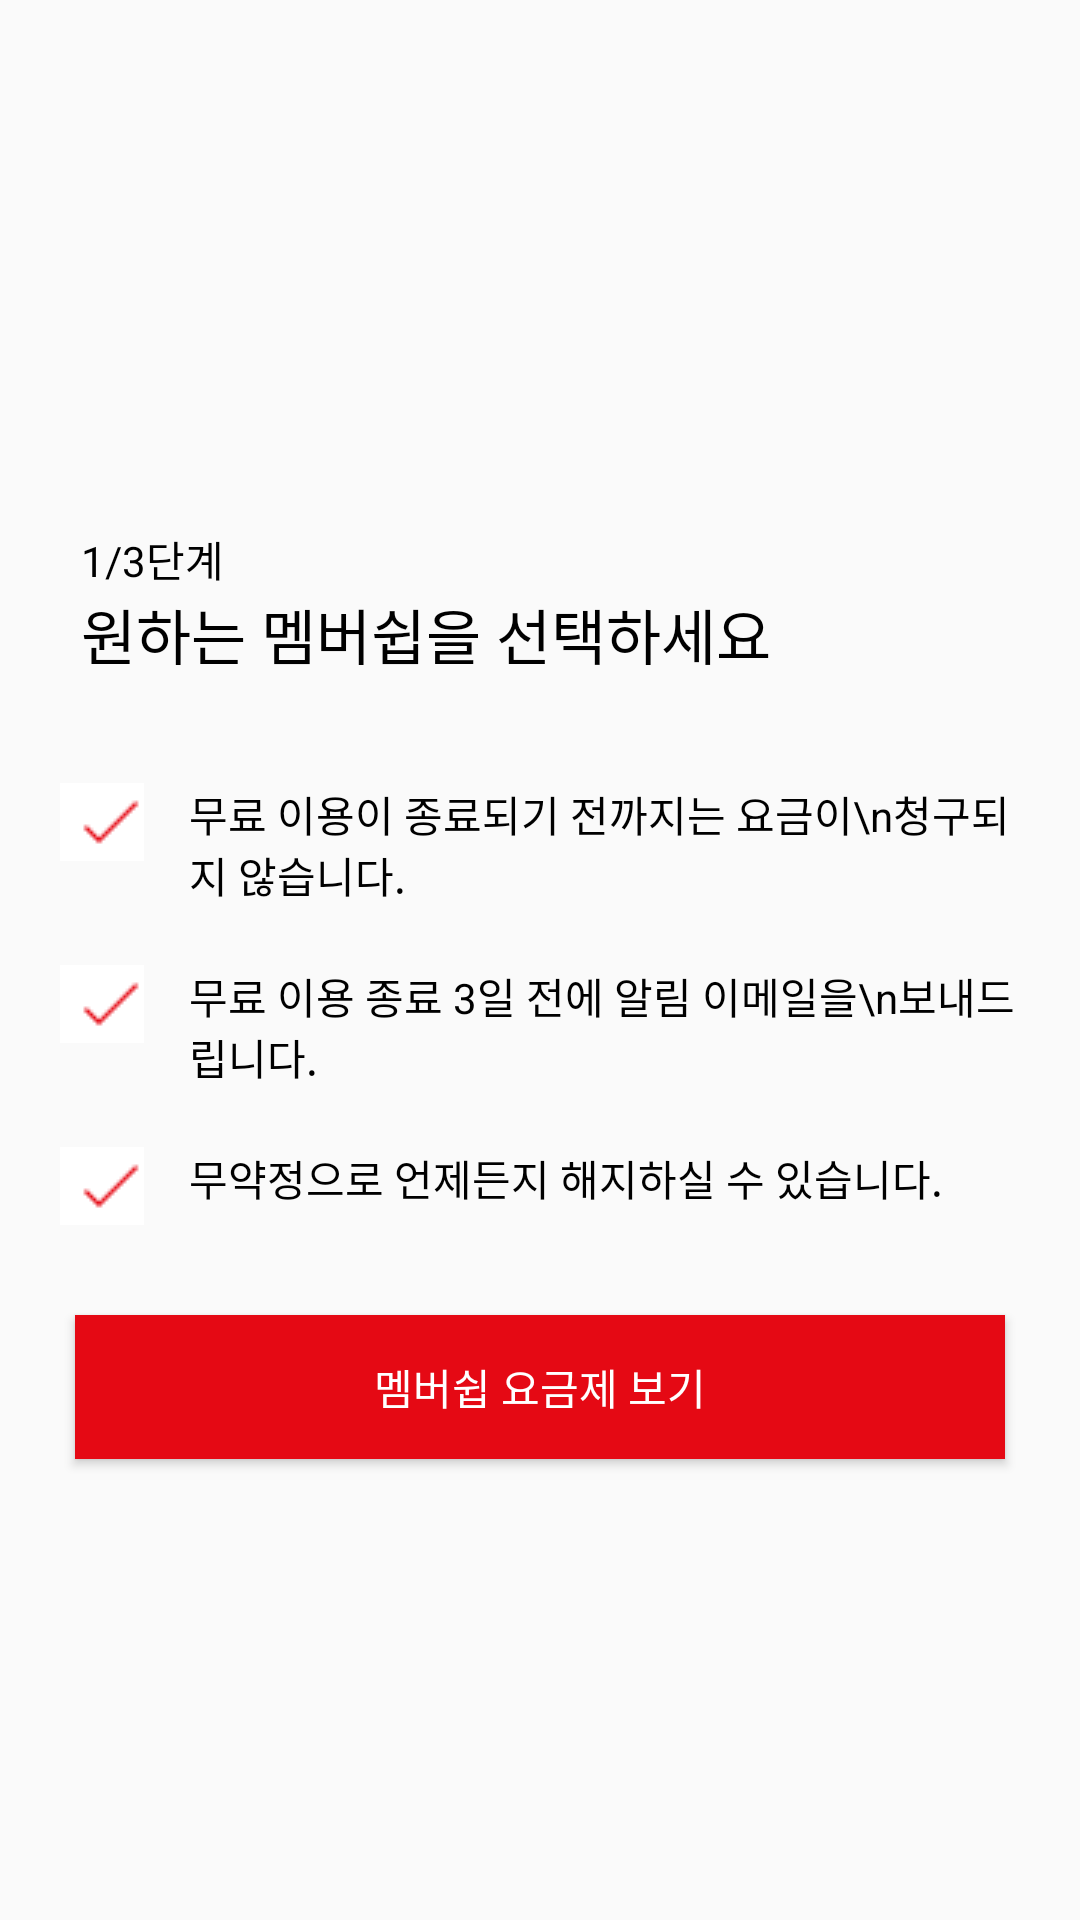

Screen size 1080x1920. Icon name, then its center in pixels as (x,y):
netflix simple check: (111,822), (111,1004), (111,1186)
